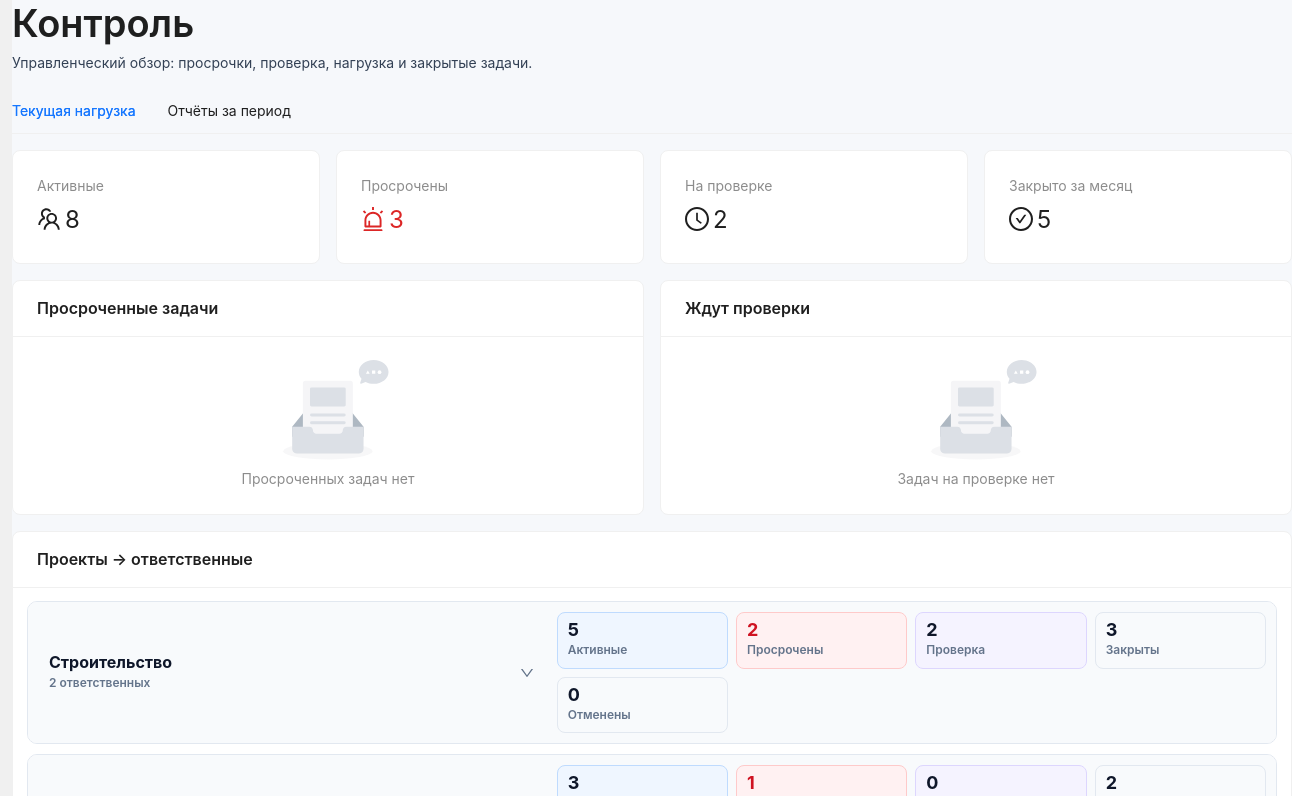
Test: control overview groups assignees inside projects and prioritizes overdue projects
What coordinates should you click on to do the following:
click the button with aria-label "Раскрыть проект Строительство"
I would click on:
 (111, 662)
Its box is [38, 643, 545, 702].
(page scrolled)
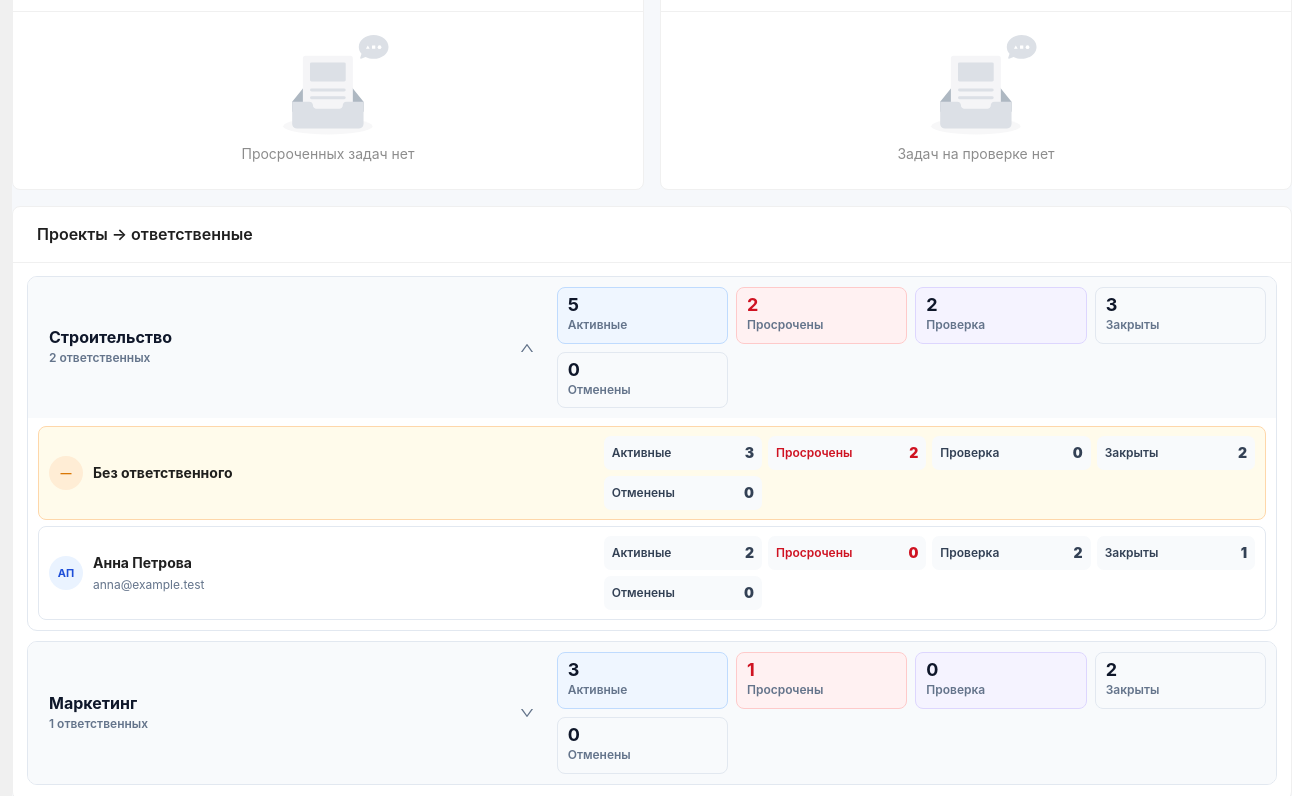
Expected: the text "Без ответственного" is shown, [93, 462, 232, 484]
Expected: the text "Анна Петрова" is shown, [93, 552, 204, 574]
